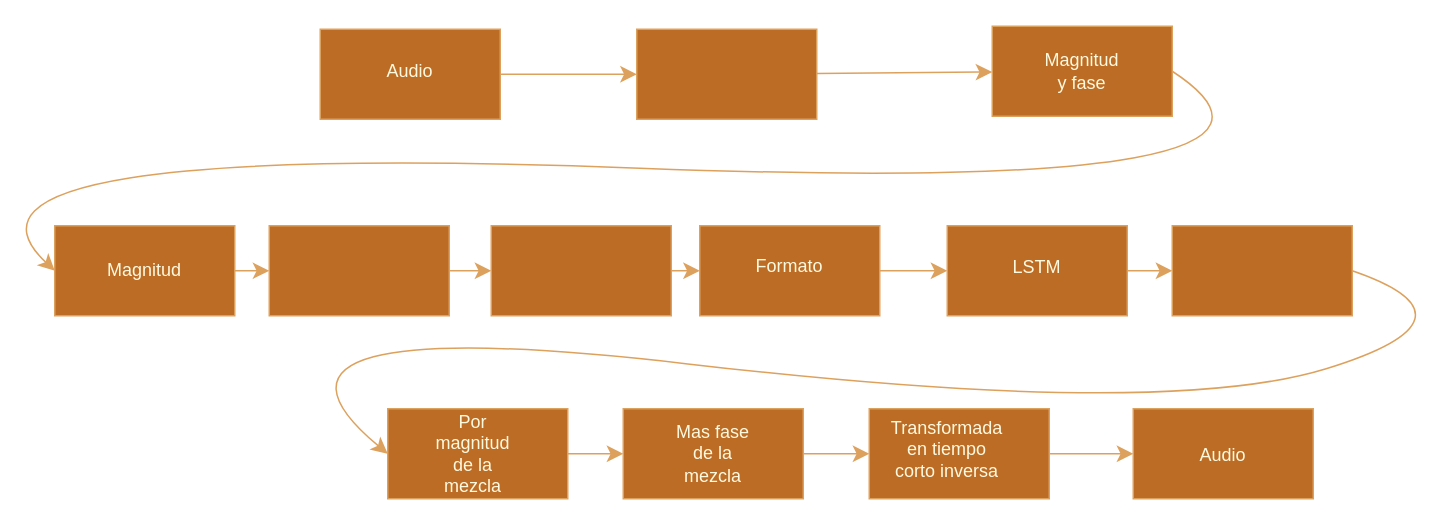
Some shapes in this 1443 by 525 pixel diagram are drawn without their labels. The shapes that lost their labels are listed below. From the top down, each one's box as (x1, y1, x2, y2) in pixels, then its label:
(635, 28, 817, 119): STFT
(268, 224, 449, 316): Ampltitud a decibelios
(490, 224, 671, 316): Normalización
(1171, 224, 1352, 316): Máscara estimada
